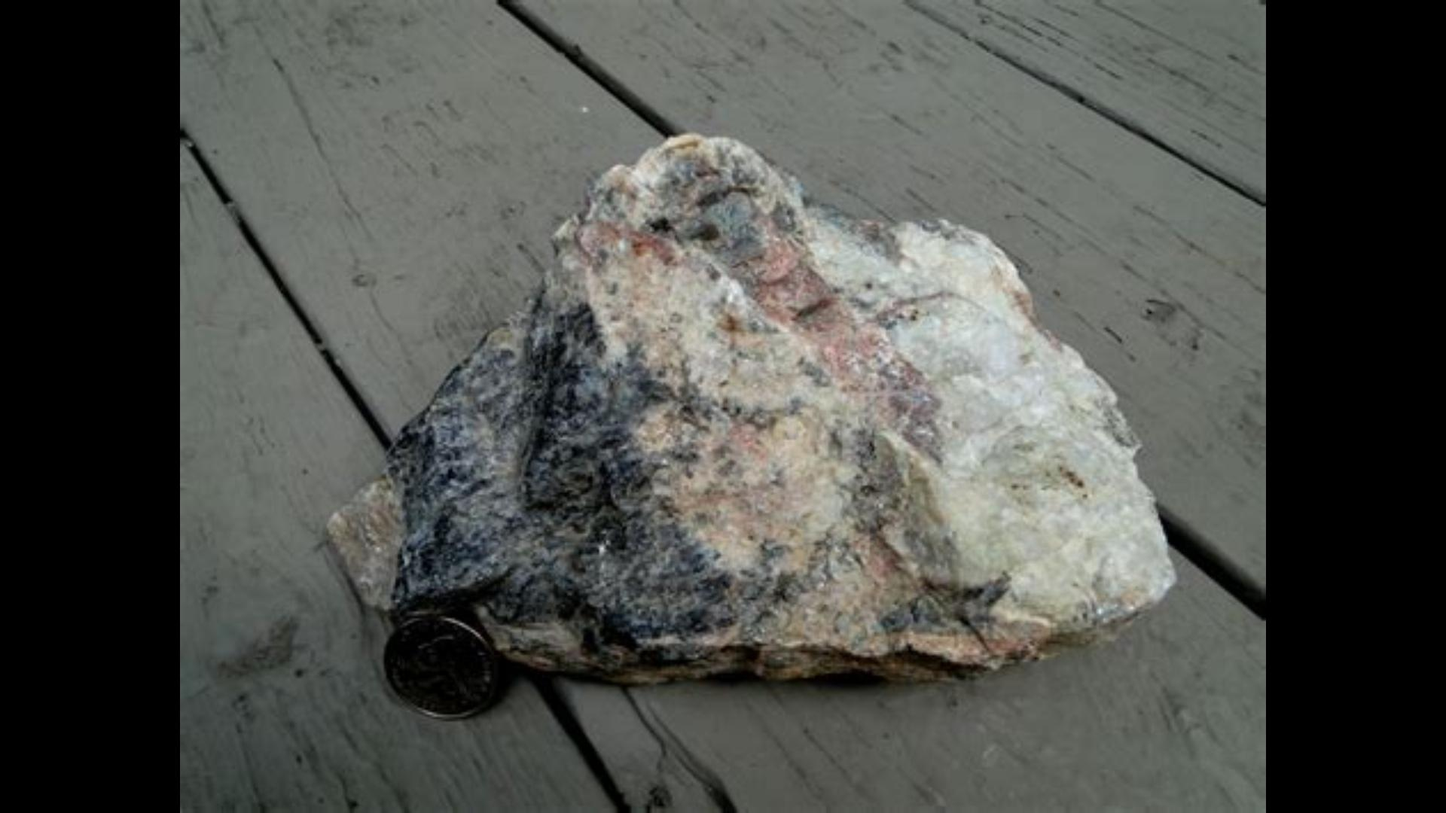rock: (329, 135, 1172, 678)
